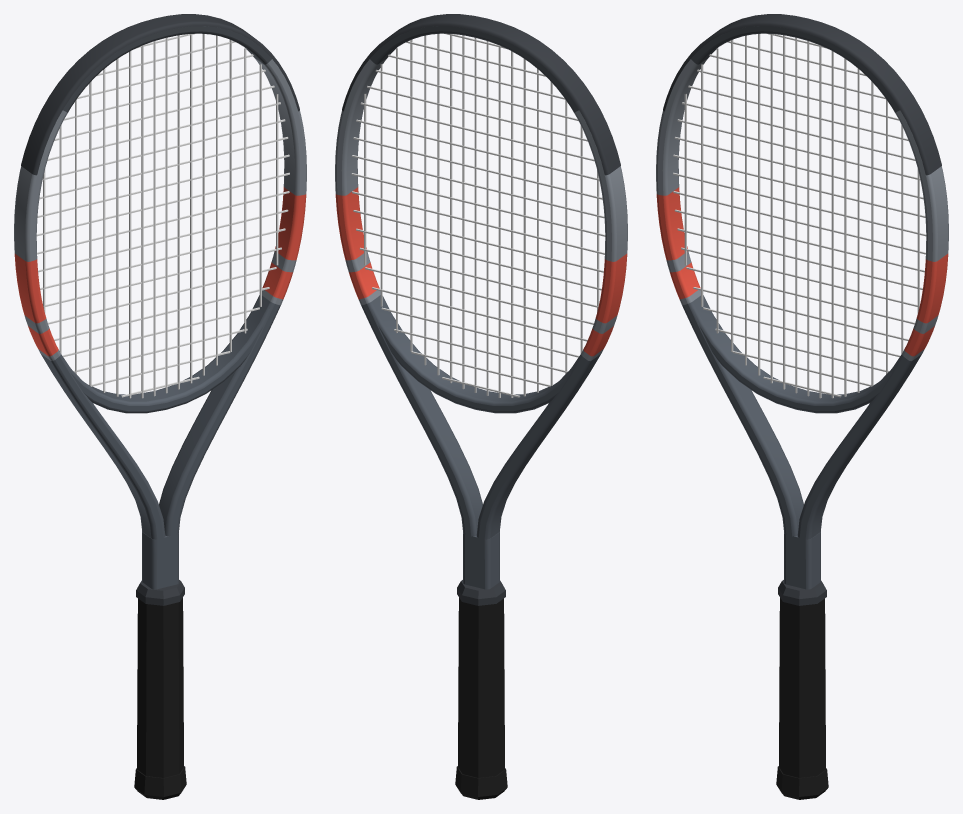
Rendered from babolat-pure-strike-98-18x20-2024.glb.
The picture shows the model from 3 angles, left to right: view 1: azimuth 30°, elevation 25°; view 2: azimuth 150°, elevation 25°; view 3: azimuth 330°, elevation 25°; orthographic projection.
Parts seen in each view (by area): view 1: frame, strings_mains, strings_crosses, grip, bumper, butt_cap, collar; view 2: frame, strings_mains, strings_crosses, grip, bumper, butt_cap, collar; view 3: frame, strings_mains, strings_crosses, grip, bumper, butt_cap, collar.
Boxes of the visible parts, x1,y1,x2,y2 form: frame: (14,26,306,589); strings_mains: (43,34,278,398); strings_crosses: (36,33,289,397); grip: (137,598,183,777); bumper: (21,14,299,175); butt_cap: (134,766,186,799); collar: (136,580,184,605); frame: (335,26,627,589); strings_mains: (364,34,599,397); strings_crosses: (351,33,605,397); grip: (458,598,504,777); bumper: (342,14,620,175); butt_cap: (455,766,507,799); collar: (457,580,505,605); frame: (656,26,948,589); strings_mains: (684,34,919,398); strings_crosses: (673,33,926,397); grip: (779,598,825,777); bumper: (663,14,941,175); butt_cap: (776,766,828,799); collar: (778,580,826,605).
Size of the model in its own units: 0.2634 by 0.6861 by 0.0396.
